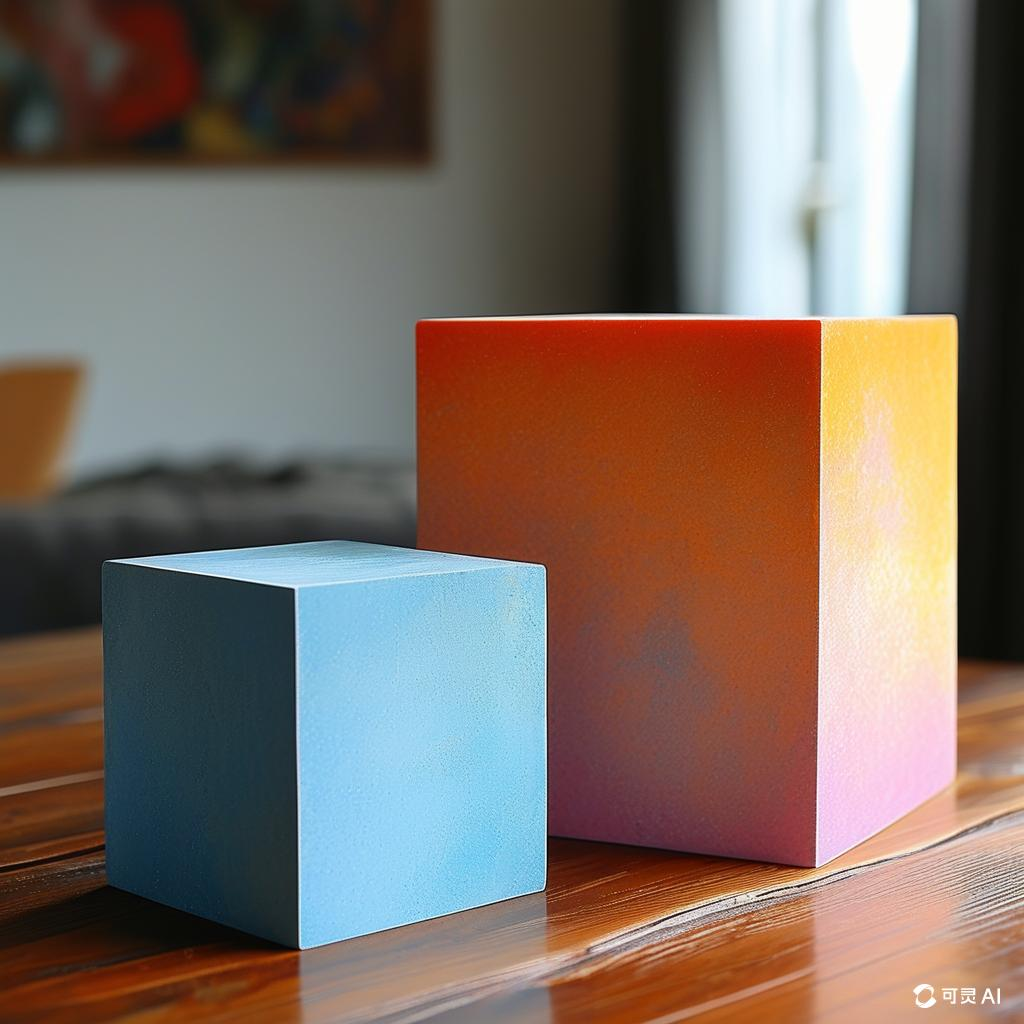cube: (415, 311, 959, 869), (99, 536, 549, 950)
